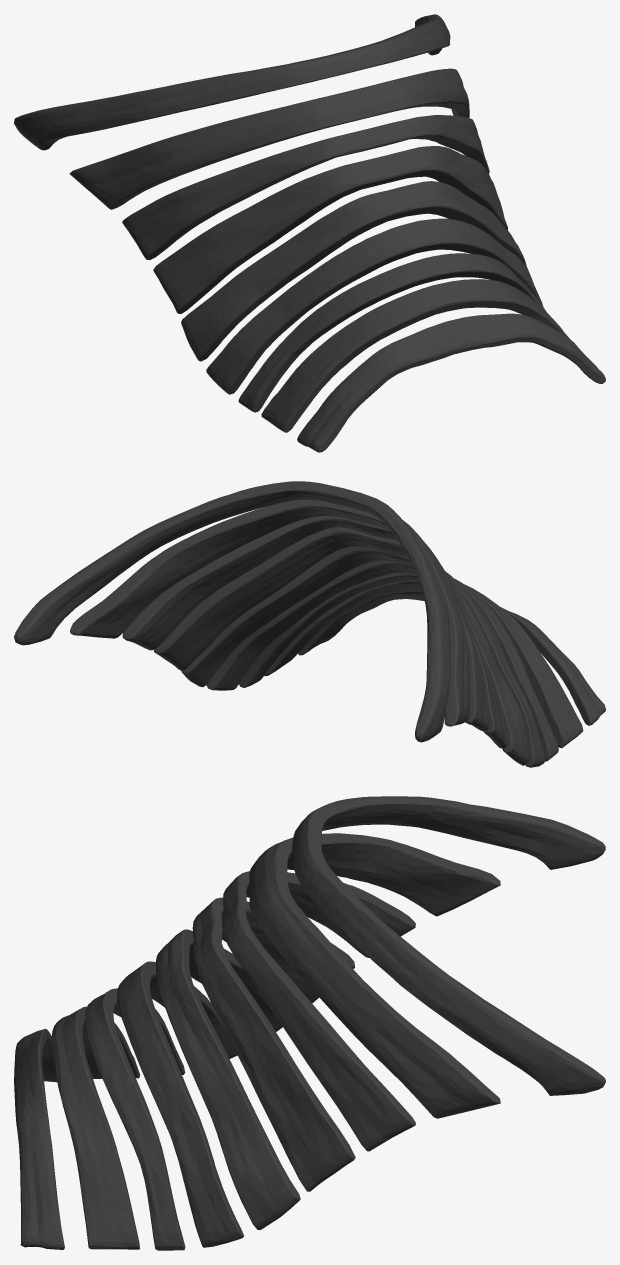
Rendered from m_superficial_sphincter_colli.glb.
3 views of the same model, one above another, from view 1: azimuth 30°, elevation 25°; view 2: azimuth 150°, elevation 25°; view 3: azimuth 270°, elevation 25° (orthographic). The views are drawn at different scales.
Visible parts, largest first — view 1: m_superficial_sphincter_colli; view 2: m_superficial_sphincter_colli; view 3: m_superficial_sphincter_colli.
Boxes of the visible parts, x1=… form: m_superficial_sphincter_colli: x1=14, y1=14, x2=605, y2=452; m_superficial_sphincter_colli: x1=14, y1=481, x2=605, y2=767; m_superficial_sphincter_colli: x1=14, y1=796, x2=605, y2=1250.
Size of the model in its own units: 0.00248 by 0.0016 by 0.0026.
1 material, 1 textured.
